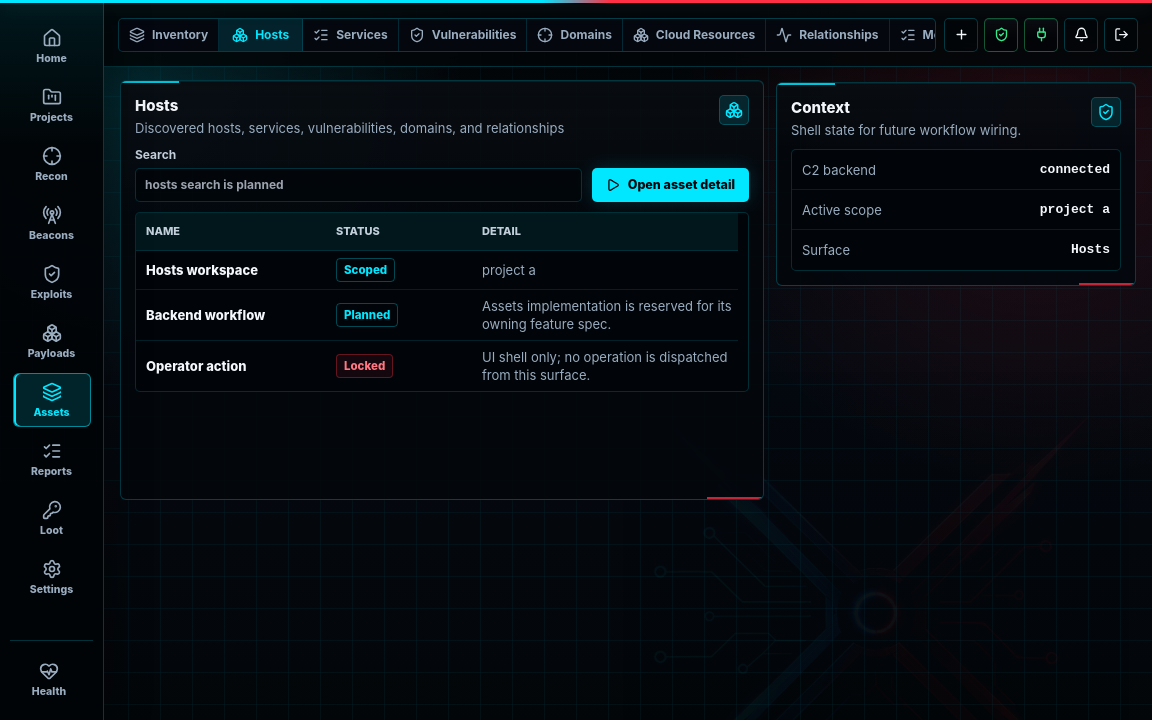
StubSectionPage › uses the side-panel modal variant for asset detail stubs
Click the button "Open asset detail": (670, 185) [592,168,749,202]
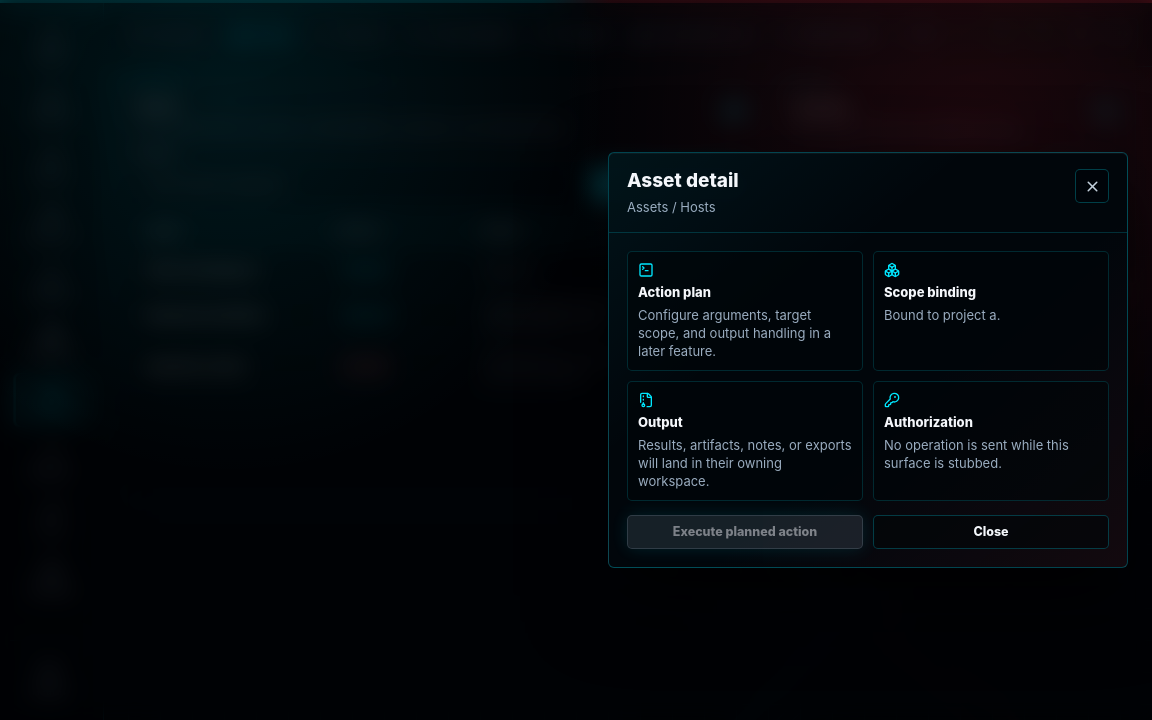
expect the dialog named "Asset detail stub" is shown: met, box [608,152,1128,568]
